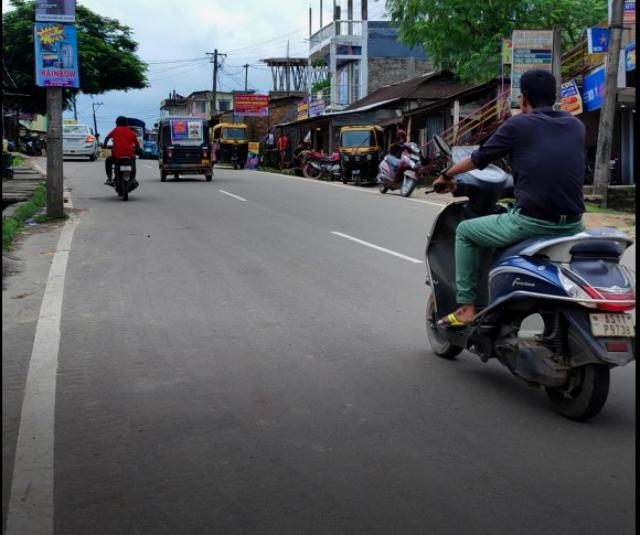licensePlate: (591, 312, 638, 335), (120, 165, 133, 171)
motorcycle: (420, 68, 640, 421), (103, 112, 142, 201)
withoutHelmet: (519, 70, 562, 113), (117, 115, 128, 126)
